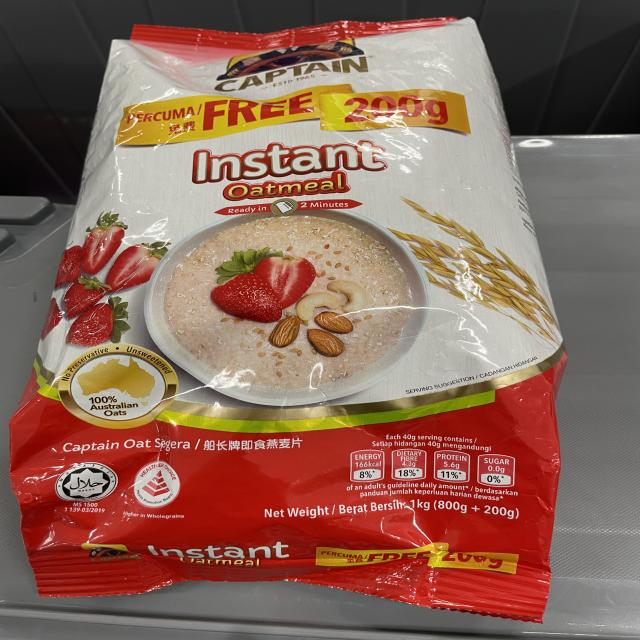object_name: (36, 35, 529, 605)
